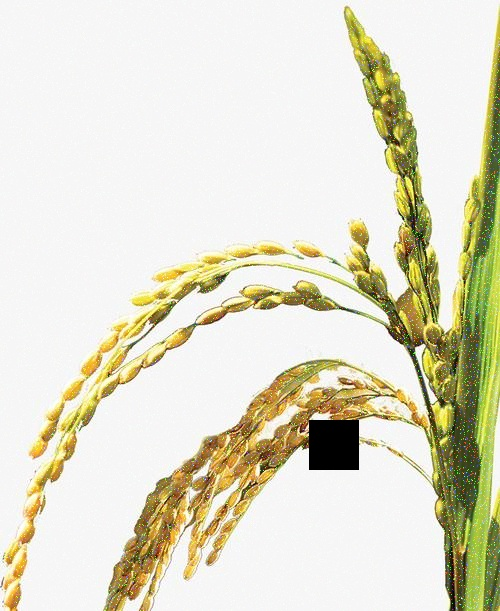rice: (3, 214, 412, 607)
